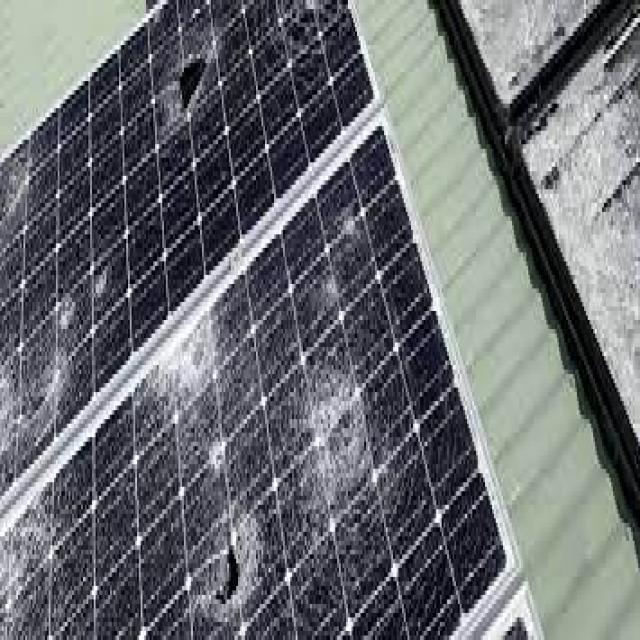faulty: (0, 128, 497, 640)
